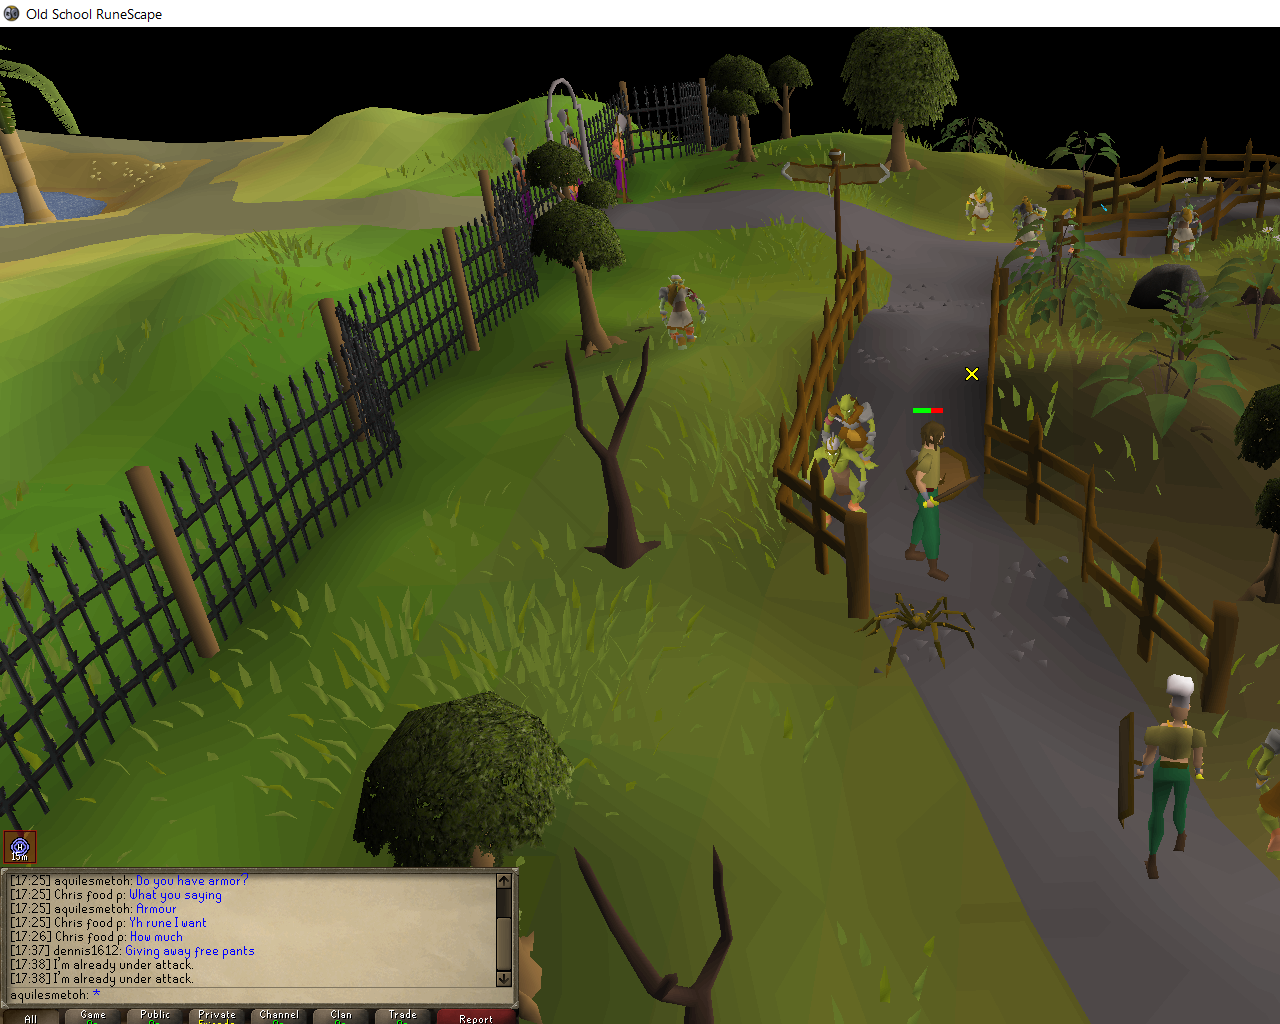Goblin: (800, 436, 868, 527), (820, 392, 880, 478), (657, 273, 708, 348), (1166, 204, 1203, 260), (1015, 207, 1047, 261), (965, 186, 995, 237), (1013, 195, 1043, 241), (1056, 204, 1081, 259)
